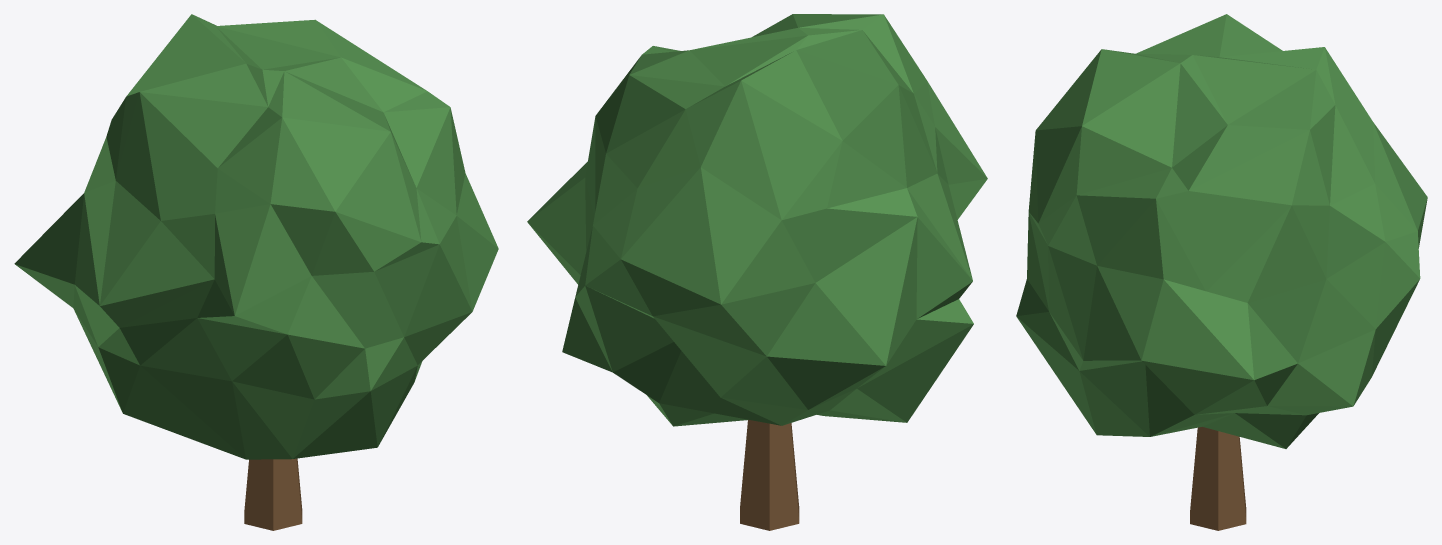
Rendered from tree3d-100.glb.
3 views of the same model, side by side, from view 1: azimuth 30°, elevation 25°; view 2: azimuth 150°, elevation 25°; view 3: azimuth 270°, elevation 25° (orthographic). The views are drawn at different scales.
Parts seen in each view (by area): view 1: tree3d-100; view 2: tree3d-100; view 3: tree3d-100.
Boxes of the visible parts, left/top/right/bottom form: tree3d-100: left=14, top=14, right=498, bottom=530; tree3d-100: left=527, top=14, right=987, bottom=530; tree3d-100: left=1016, top=14, right=1427, bottom=530.
Size of the model in its own units: 0.8996 by 1 by 0.8156.
